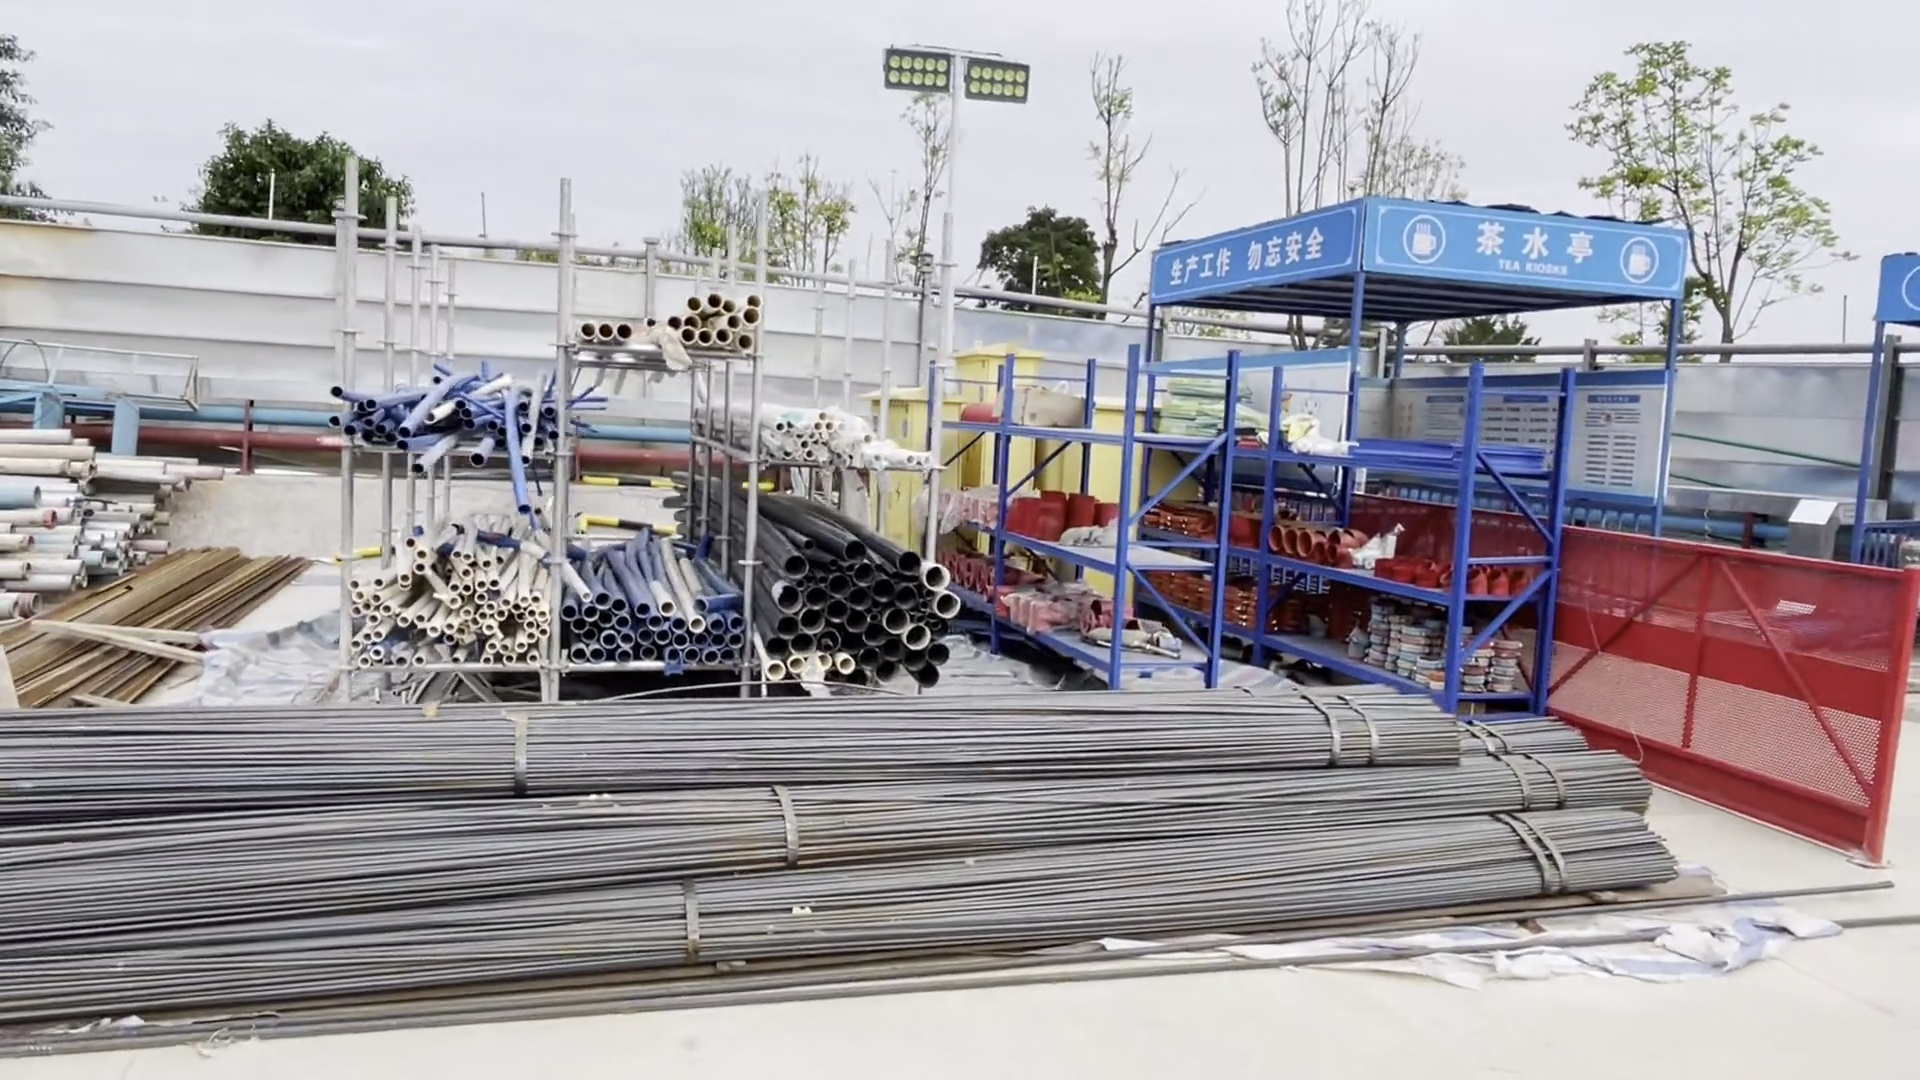ebox: (877, 347, 1133, 550)
fence: (1549, 524, 1907, 868)
rebar: (1, 702, 1658, 1001)
slogan: (1147, 198, 1365, 301)
